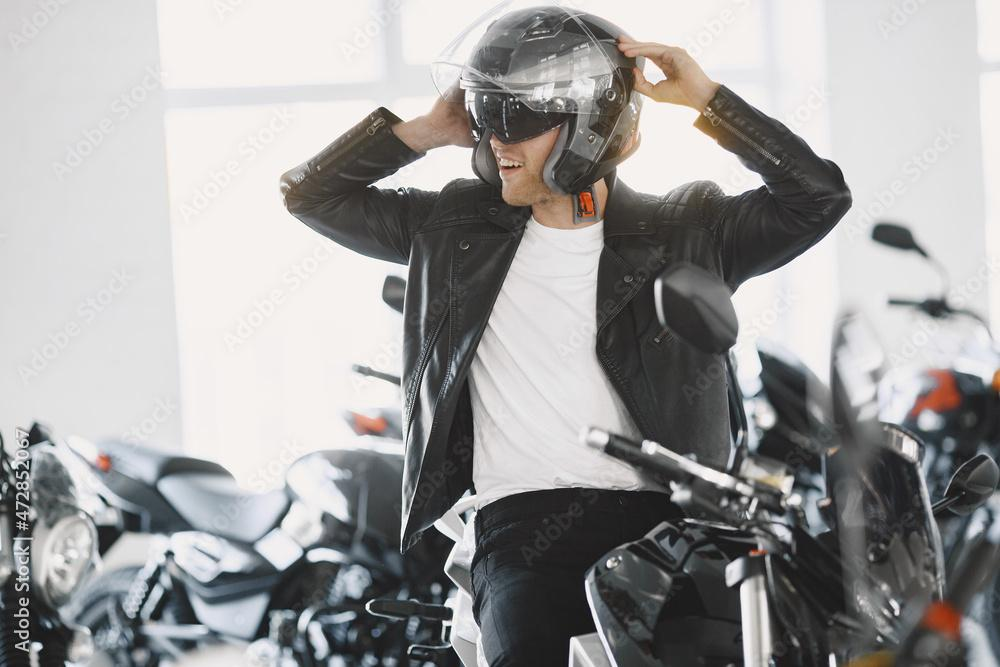helmet: (427, 0, 649, 226)
